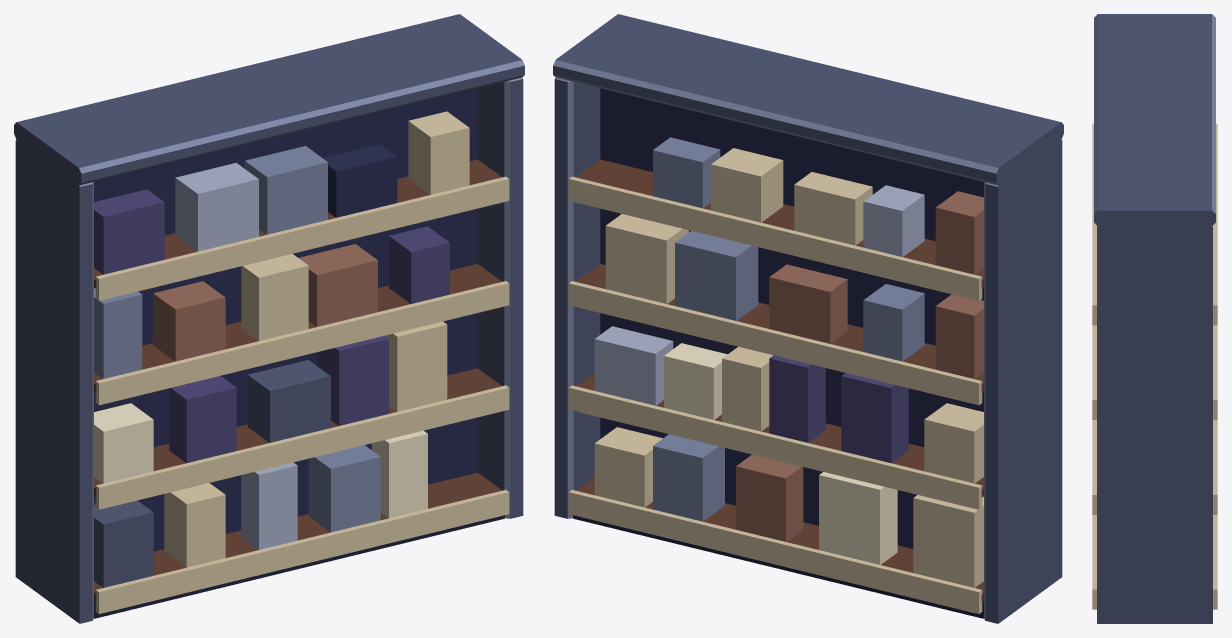
File: Shelf_Gondola_8x2.fbx
3 renders of one model, left to right at view 1: azimuth 30°, elevation 25°; view 2: azimuth 150°, elevation 25°; view 3: azimuth 270°, elevation 25°, orthographic. The views are drawn at different scales.
Parts seen in each view (by area): view 1: Shelf_Gondola_8x2; view 2: Shelf_Gondola_8x2; view 3: Shelf_Gondola_8x2.
Part boxes in pixels (x1,y1,x2,y2): Shelf_Gondola_8x2: (14, 14, 524, 623); Shelf_Gondola_8x2: (553, 14, 1063, 623); Shelf_Gondola_8x2: (1092, 14, 1217, 623).
Size of the model in its own units: 8 by 7.85 by 2.16.
Materials: 1 (1 with a texture image).
